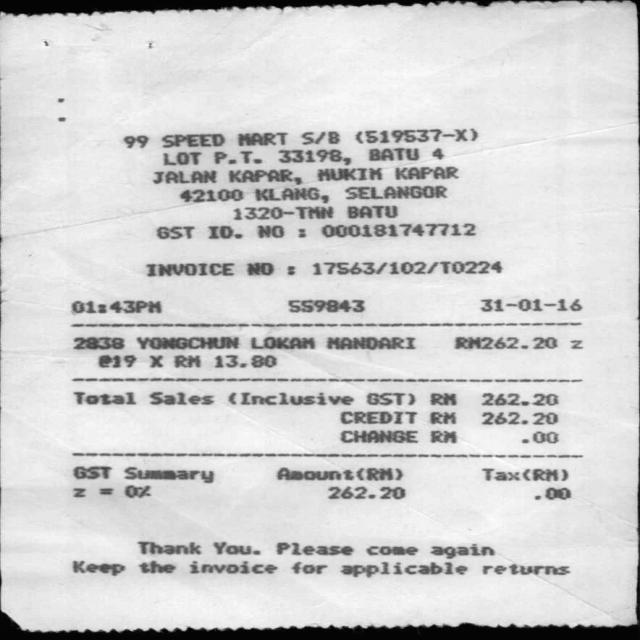text: (311, 260, 501, 274), (320, 223, 474, 236), (341, 562, 466, 576), (354, 128, 476, 142), (275, 467, 402, 480), (227, 392, 352, 404), (343, 185, 445, 199), (232, 205, 332, 219), (123, 467, 213, 482), (70, 300, 162, 314), (144, 262, 232, 276), (479, 298, 581, 310), (135, 336, 237, 348), (454, 336, 556, 348), (253, 186, 327, 202), (277, 148, 349, 164), (480, 468, 568, 481), (188, 560, 275, 573), (227, 169, 301, 184), (326, 485, 404, 499), (287, 298, 364, 312), (72, 484, 149, 498), (326, 337, 414, 349), (339, 411, 415, 424), (481, 392, 556, 405), (429, 543, 492, 558), (274, 542, 352, 554), (341, 430, 416, 442), (481, 412, 555, 424), (160, 133, 223, 147), (179, 188, 241, 202), (482, 564, 568, 574), (136, 541, 200, 554), (72, 391, 135, 404), (148, 391, 211, 404), (214, 354, 275, 367), (72, 560, 124, 575), (316, 168, 380, 180), (249, 336, 313, 348), (151, 170, 214, 182), (394, 166, 456, 178), (346, 205, 396, 218), (236, 132, 285, 145), (368, 147, 417, 160), (212, 150, 260, 163), (72, 337, 123, 349), (211, 541, 258, 554), (366, 392, 414, 404), (299, 130, 337, 144), (96, 354, 135, 367), (162, 151, 200, 164), (72, 465, 110, 478), (366, 545, 416, 554), (156, 226, 193, 238), (521, 431, 558, 443), (138, 560, 174, 572), (207, 225, 240, 238), (291, 562, 326, 574), (534, 487, 569, 498), (245, 262, 273, 274), (255, 225, 282, 237), (122, 134, 146, 147), (428, 411, 454, 423), (174, 354, 199, 366), (430, 430, 455, 442), (428, 393, 454, 404), (148, 354, 162, 366), (432, 147, 442, 159), (569, 339, 581, 348)
